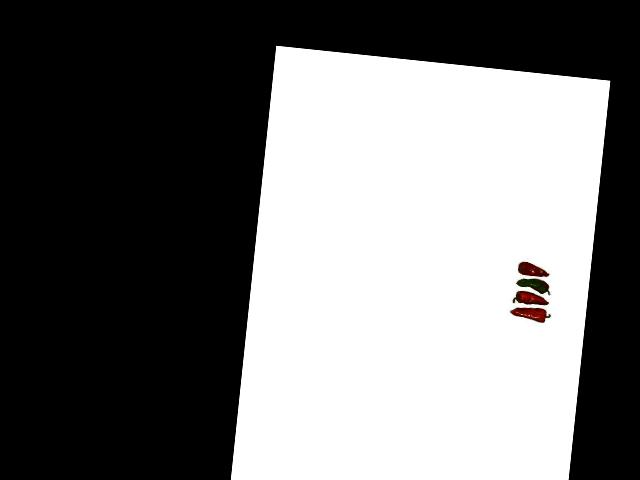bell_pepper: (516, 257, 553, 279)
